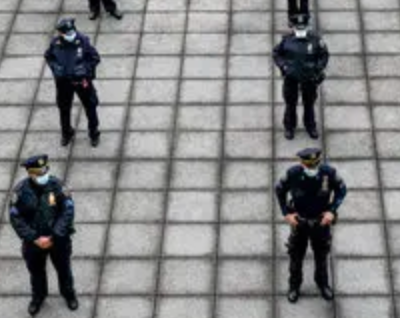Good: (9, 148, 347, 310), (45, 15, 329, 147), (7, 14, 108, 318), (268, 14, 348, 312)
